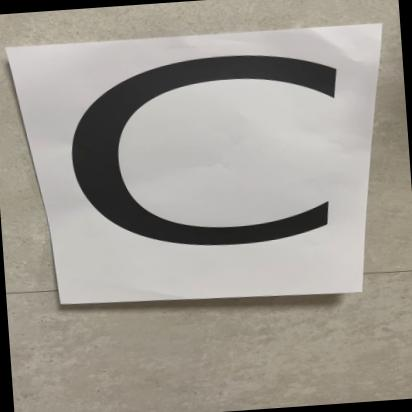seat: (13, 28, 382, 306)
